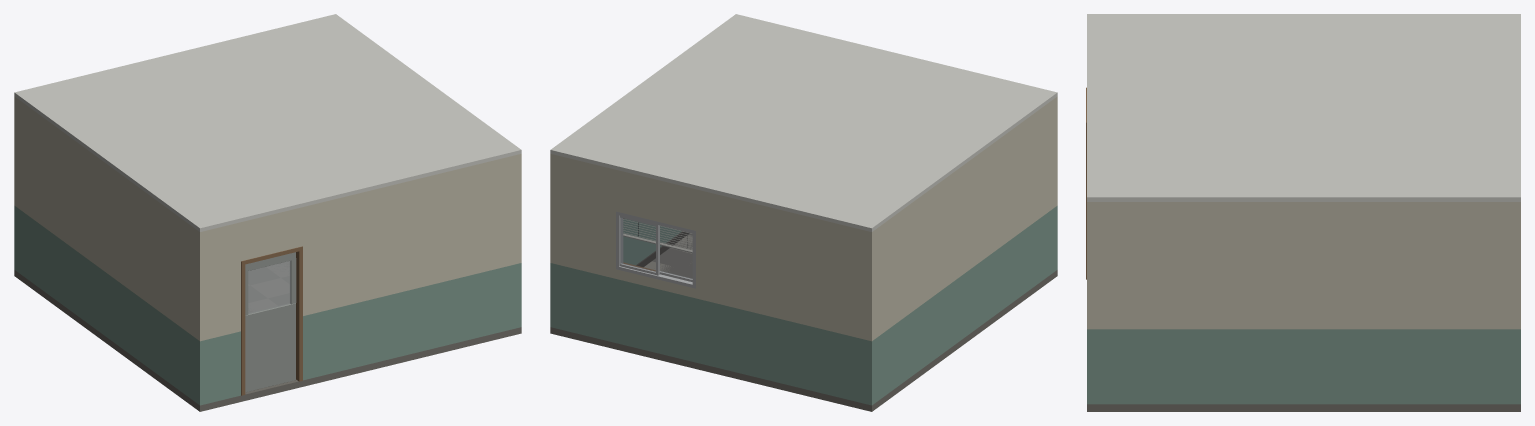
File: PoliceStation_Room.fbx
3 views of the same model, side by side, from view 1: azimuth 30°, elevation 25°; view 2: azimuth 150°, elevation 25°; view 3: azimuth 270°, elevation 25° (orthographic). The views are drawn at different scales.
Visible parts, largest first — view 1: Ceiling, Wall_Front_R_Upper, Wall_Left_Upper, Wall_Front_R_Lower, Wall_Left_Lower, Wall_Front_L_Upper, Door_Leaf_Lower, Floor_Base, Wall_Front_L_Lower, Wall_Front_Top_Upper, Door_Glass, Floor (+3 smaller); view 2: Ceiling, Wall_Left_Upper, Wall_Back_L_Upper, Wall_Left_Lower, Wall_Back_L_Lower, Wall_Back_R_Upper, Wall_Back_Bot_Lower, Wall_Back_R_Lower, Floor_Base, Wall_Back_Top_Upper, Window_Glass_1, Window_Glass_0 (+4 smaller); view 3: Ceiling, Wall_Right_Upper, Wall_Right_Lower, Floor_Base, Wall_Back_R_Upper, Wall_Front_R_Upper, Wall_Front_R_Lower, Wall_Back_R_Lower.
Boxes of the visible parts, x1,y1,x2,y2 form: Ceiling: [14, 14, 521, 231]; Wall_Front_R_Upper: [299, 154, 521, 315]; Wall_Left_Upper: [14, 96, 207, 337]; Wall_Front_R_Lower: [303, 263, 521, 380]; Wall_Left_Lower: [14, 205, 206, 404]; Wall_Front_L_Upper: [195, 221, 244, 341]; Door_Leaf_Lower: [245, 303, 295, 392]; Floor_Base: [14, 270, 521, 411]; Wall_Front_L_Lower: [195, 331, 240, 405]; Wall_Front_Top_Upper: [244, 208, 299, 260]; Door_Glass: [248, 260, 290, 313]; Floor: [249, 265, 288, 310]; Ceiling: [550, 14, 1057, 231]; Wall_Left_Upper: [864, 98, 1057, 340]; Wall_Back_L_Upper: [696, 189, 876, 341]; Wall_Left_Lower: [864, 207, 1057, 405]; Wall_Back_L_Lower: [696, 298, 876, 405]; Wall_Back_R_Upper: [550, 154, 615, 278]; Wall_Back_Bot_Lower: [616, 279, 695, 362]; Wall_Back_R_Lower: [550, 263, 615, 342]; Floor_Base: [550, 238, 1057, 411]; Wall_Back_Top_Upper: [616, 170, 695, 230]; Window_Glass_1: [621, 218, 655, 271]; Window_Glass_0: [660, 226, 692, 278]; Ceiling: [1087, 14, 1520, 201]; Wall_Right_Upper: [1087, 202, 1520, 329]; Wall_Right_Lower: [1087, 329, 1520, 404]; Floor_Base: [1087, 404, 1520, 411]; Wall_Back_R_Upper: [1511, 202, 1520, 329]; Wall_Front_R_Upper: [1087, 202, 1096, 329]; Wall_Front_R_Lower: [1087, 329, 1096, 404]; Wall_Back_R_Lower: [1511, 329, 1520, 404].
Bounding box in the file's own units: 5.24 × 2.86 × 5.25.
